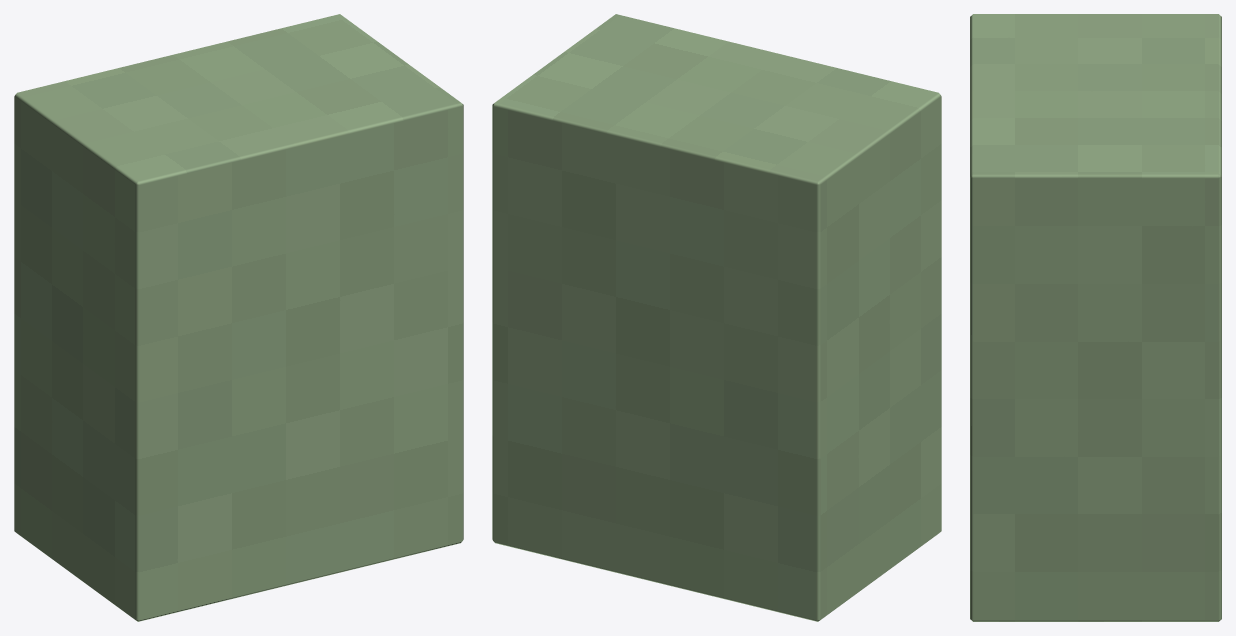
The model's file is Carton.glb.
3 views of the same model, side by side, from view 1: azimuth 30°, elevation 25°; view 2: azimuth 150°, elevation 25°; view 3: azimuth 270°, elevation 25° (orthographic).
Visible parts, largest first — view 1: Carton; view 2: Carton; view 3: Carton.
Boxes of the visible parts, left/top/right/bottom form: Carton: left=14, top=14, right=463, bottom=621; Carton: left=492, top=14, right=941, bottom=621; Carton: left=970, top=14, right=1221, bottom=621.
Bounding box in the file's own units: 0.237 × 0.304 × 0.155.
1 material, 1 textured.
